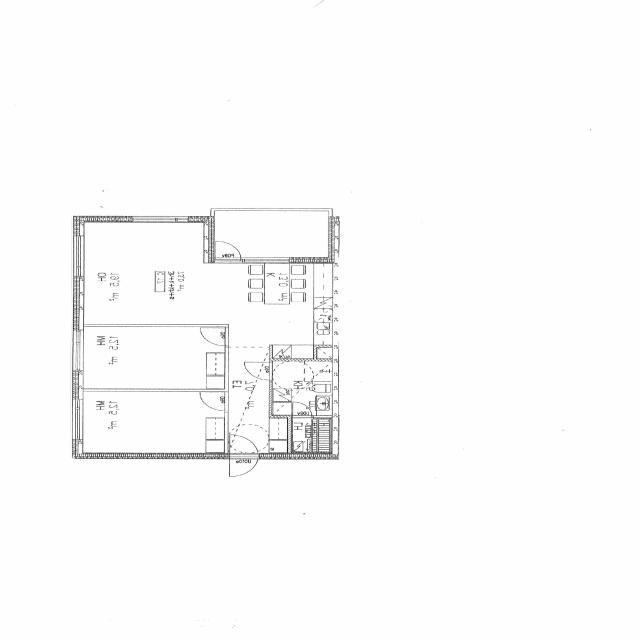door: (230, 453, 258, 479), (230, 433, 258, 459), (216, 239, 241, 263), (200, 328, 229, 346), (244, 362, 273, 380), (200, 392, 228, 410), (293, 402, 312, 419)
